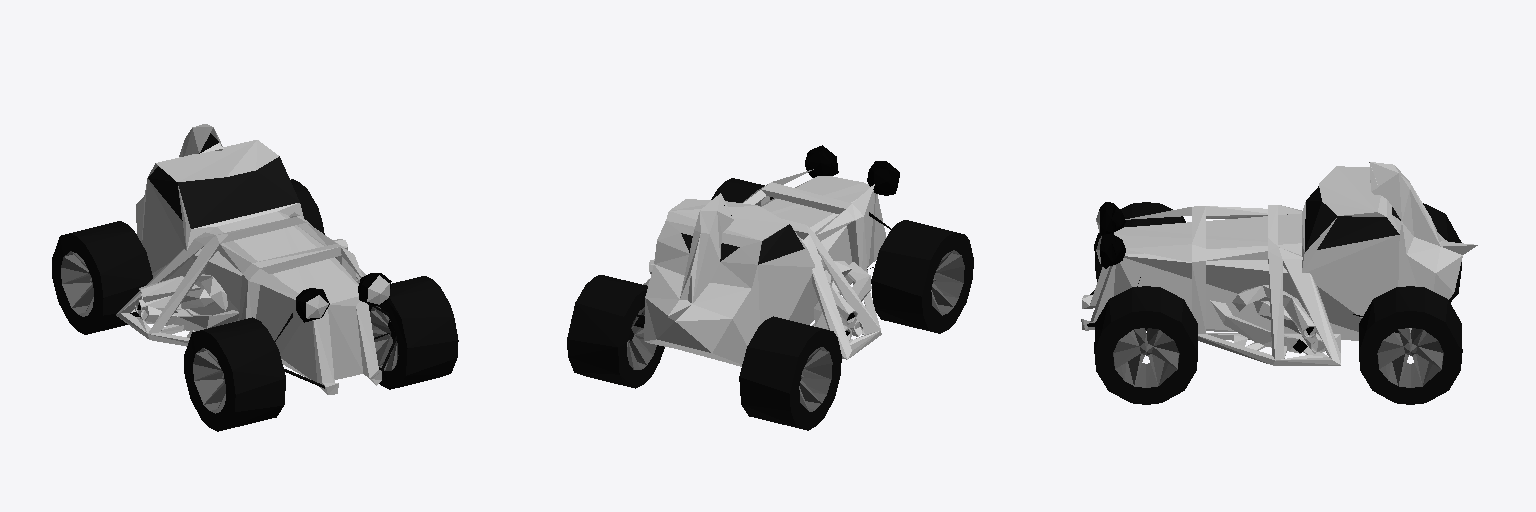
File: hot_rod_racing.obj
3 renders of one model, left to right at view 1: azimuth 30°, elevation 25°; view 2: azimuth 150°, elevation 25°; view 3: azimuth 270°, elevation 25°, orthographic.
Parts seen in each view (by area): view 1: Cube, Cylinder.002, Cylinder.003, Cylinder.004, Cylinder.001; view 2: Cube, Cylinder.002, Cylinder.003, Cylinder.001, Cylinder.004; view 3: Cube, Cylinder.004, Cylinder.001, Cylinder.002, Cylinder.003.
Part boxes in pixels (bbox=[...]): Cube: bbox=[116, 124, 397, 394]; Cylinder.002: bbox=[184, 317, 285, 431]; Cylinder.003: bbox=[52, 221, 152, 334]; Cylinder.004: bbox=[368, 276, 458, 389]; Cylinder.001: bbox=[290, 179, 324, 234]; Cube: bbox=[634, 145, 899, 366]; Cylinder.002: bbox=[871, 220, 973, 333]; Cylinder.003: bbox=[739, 316, 841, 430]; Cylinder.001: bbox=[567, 275, 664, 388]; Cylinder.004: bbox=[711, 178, 773, 202]; Cube: bbox=[1081, 162, 1477, 365]; Cylinder.004: bbox=[1094, 286, 1197, 404]; Cylinder.001: bbox=[1359, 286, 1462, 404]; Cylinder.002: bbox=[1094, 202, 1185, 281]; Cylinder.003: bbox=[1423, 203, 1461, 302].
Bounding box in the file's own units: 3.21 × 2.58 × 4.87.